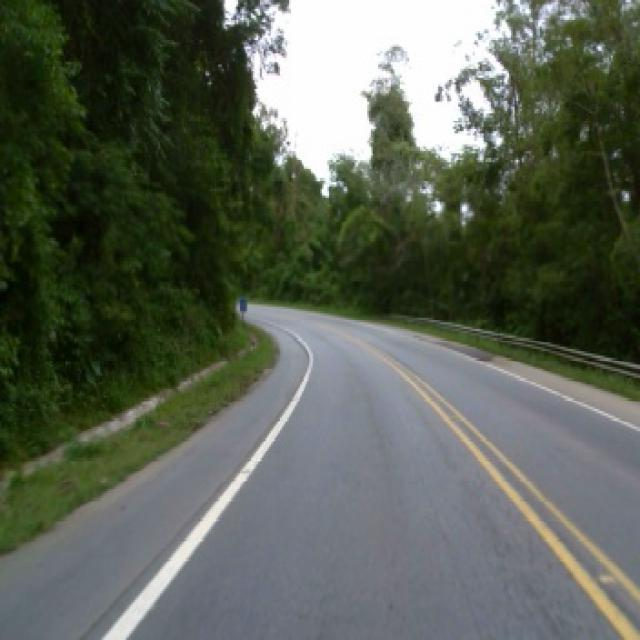Poth-hole: (600, 571, 618, 582)
